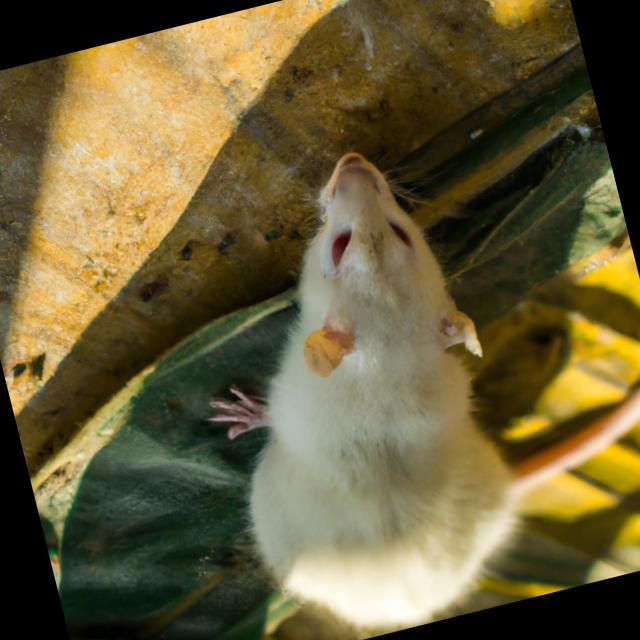rodents: (150, 113, 555, 640)
